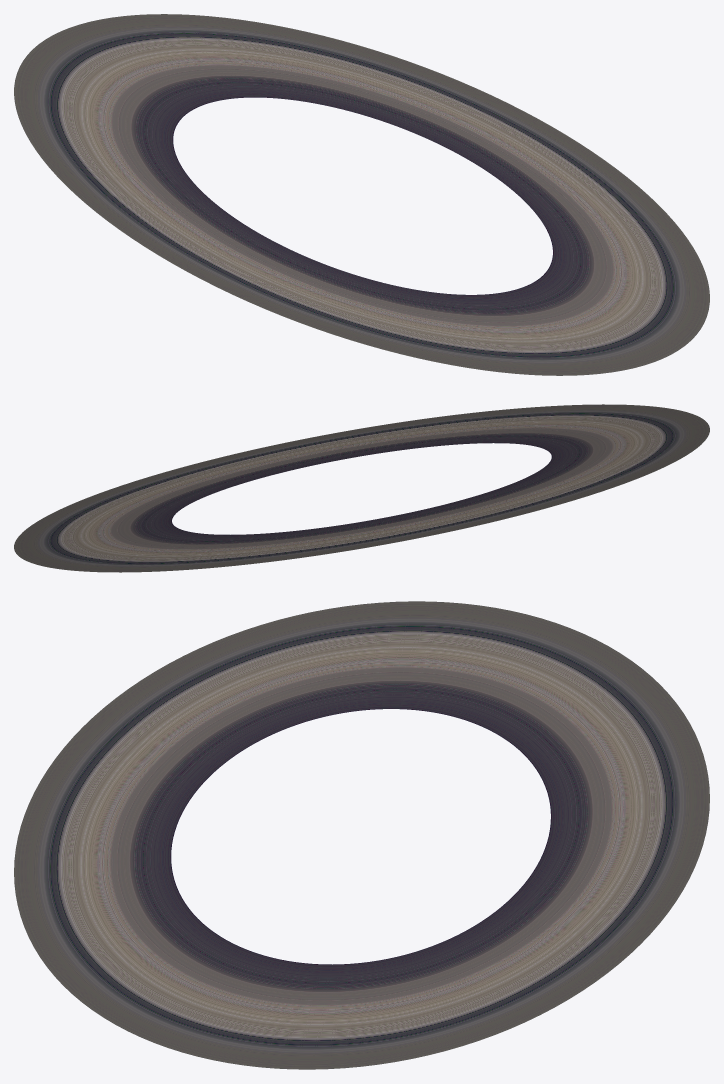
The model's file is ring.obj.
The picture shows the model from 3 angles, top to bottom: view 1: azimuth 30°, elevation 25°; view 2: azimuth 150°, elevation 25°; view 3: azimuth 270°, elevation 25°; orthographic projection. The views are drawn at different scales.
Visible parts, largest first — view 1: Ring; view 2: Ring; view 3: Ring.
Boxes of the visible parts, left/top/right/bottom form: Ring: left=14, top=14, right=709, bottom=375; Ring: left=14, top=404, right=709, bottom=572; Ring: left=14, top=601, right=709, bottom=1069.
Bounding box in the file's own units: 3.88 × 1.24 × 3.99.
Materials: 1 (1 with a texture image).
